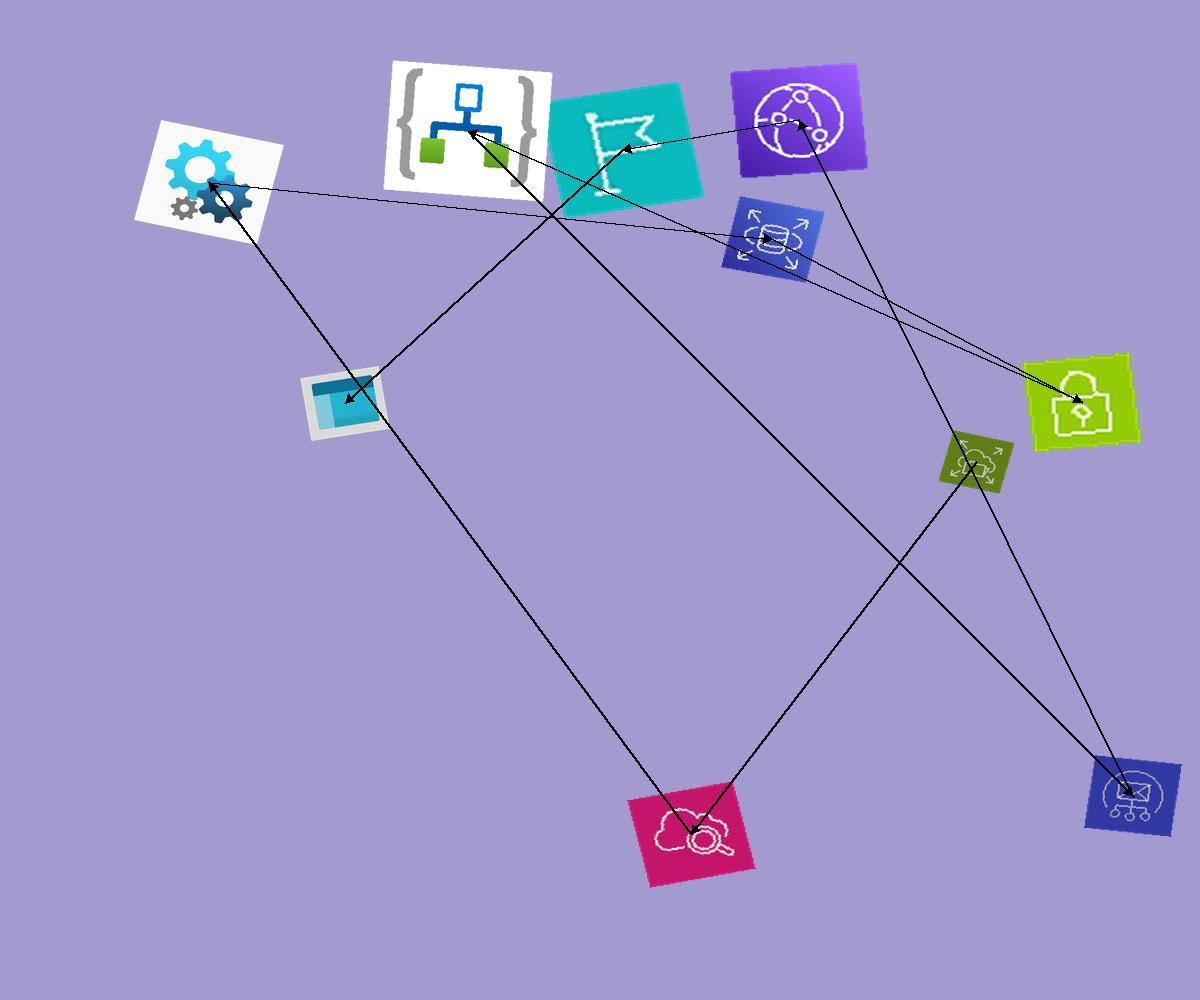AWS-CloudFront: (729, 62, 869, 179)
AWS-CloudWatch: (627, 781, 756, 888)
AWS-EFS: (938, 430, 1015, 494)
AWS-Public-subnet: (1020, 351, 1144, 454)
AWS-RDS: (721, 196, 825, 283)
AWS-Region: (539, 81, 705, 219)
AWS-Simple-Email-Service: (1084, 755, 1182, 837)
Azure_api: (134, 120, 284, 245)
Azure_integration-204-Logic-Apps: (383, 60, 553, 202)
Azure_management-portal: (300, 366, 390, 441)
